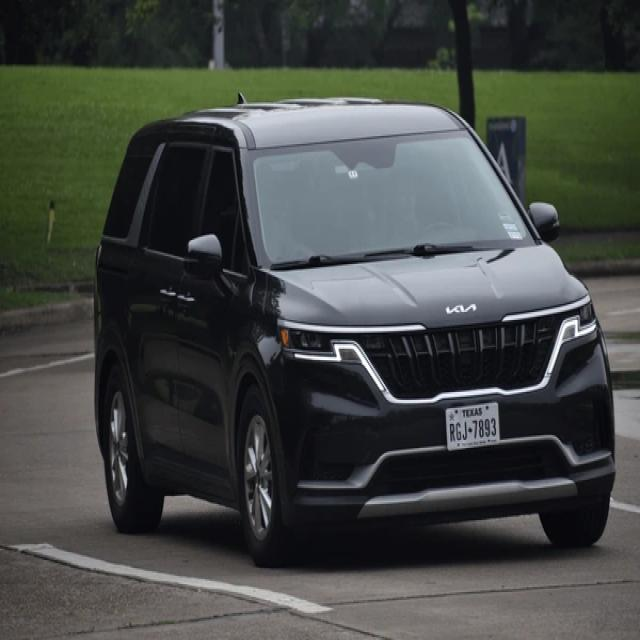kia: (444, 298, 479, 322)
